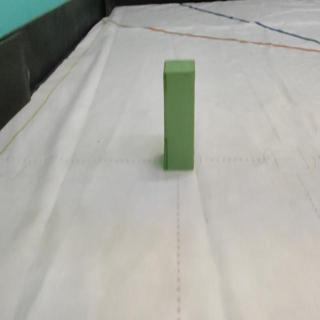greenbox: (161, 56, 198, 173)
